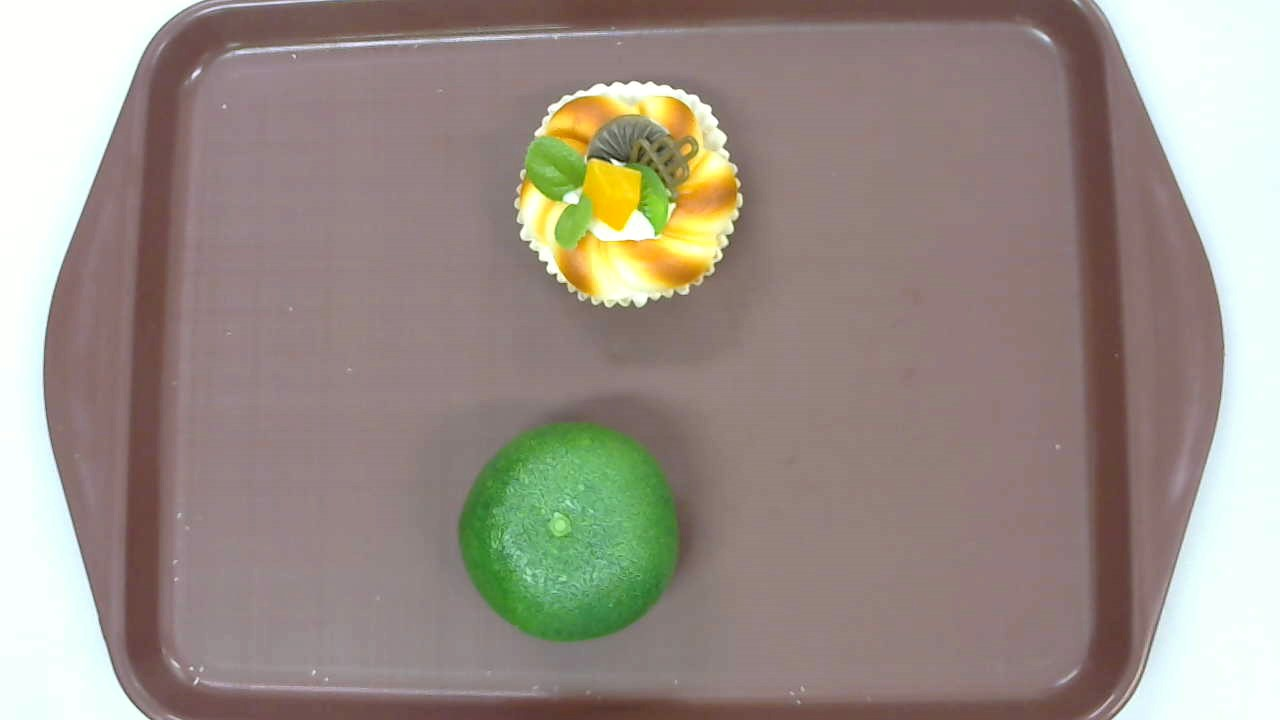fruit tart: (514, 79, 744, 309)
green orange: (458, 421, 680, 639)
